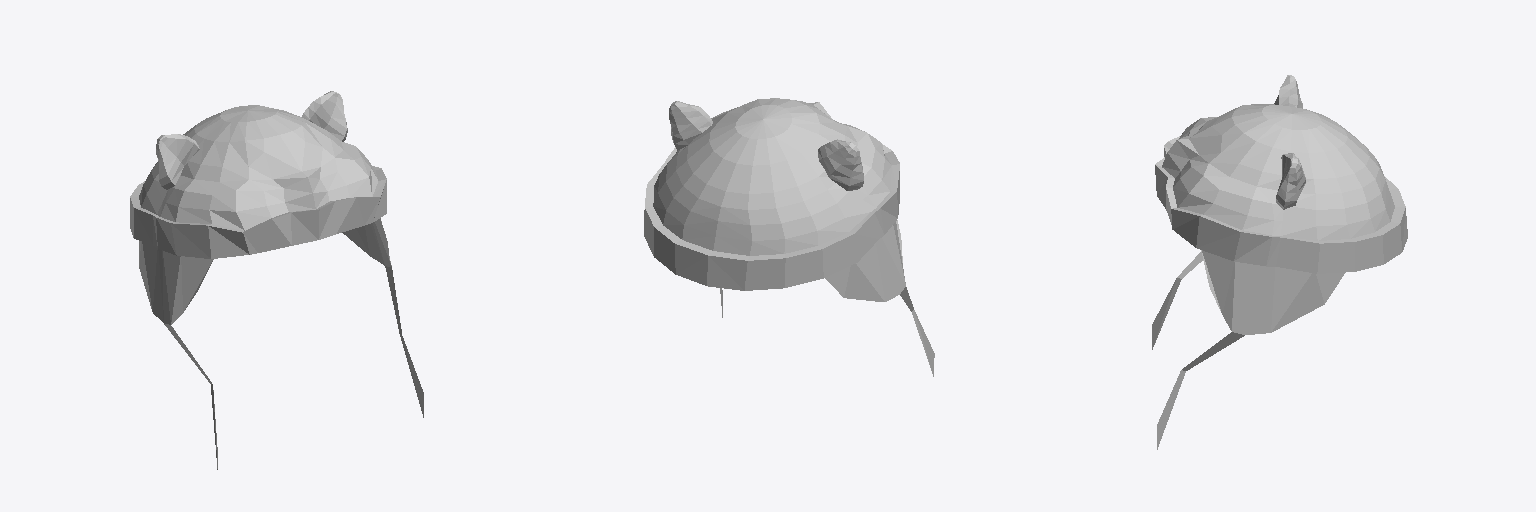
Rendered from raccoonhat2.obj.
3 renders of one model, left to right at view 1: azimuth 30°, elevation 25°; view 2: azimuth 150°, elevation 25°; view 3: azimuth 270°, elevation 25°, orthographic.
Parts seen in each view (by area): view 1: Sphere; view 2: Sphere; view 3: Sphere.
Part boxes in pixels (x1,y1,x2,y2): Sphere: (130, 91, 423, 469); Sphere: (644, 98, 934, 376); Sphere: (1152, 75, 1407, 449).
Size of the model in its own units: 1.92 by 2.36 by 1.9.